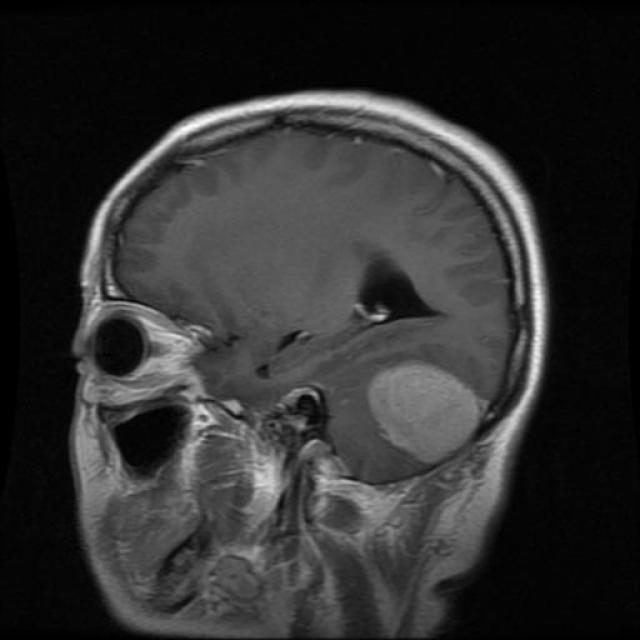meningioma: (366, 365, 479, 464)
